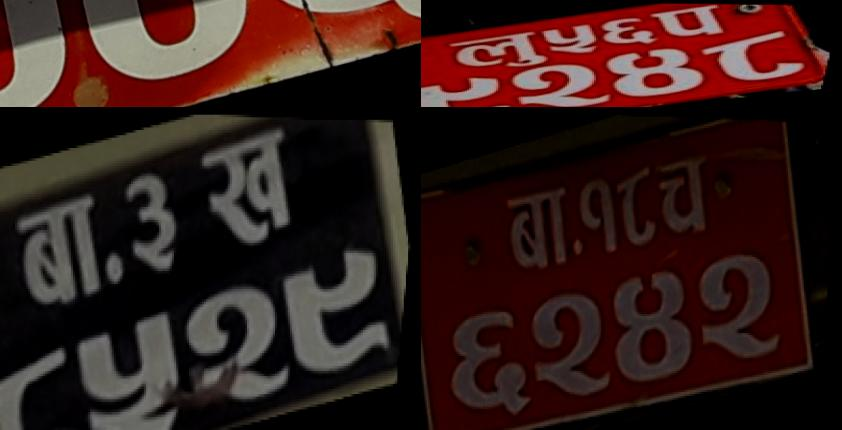0: (51, 0, 294, 104), (0, 0, 106, 107), (499, 177, 580, 282)
1: (521, 277, 627, 415), (687, 237, 793, 375)
2: (171, 258, 312, 430), (502, 57, 631, 107)
3: (106, 151, 202, 290), (571, 168, 628, 260)
4: (439, 296, 547, 430), (586, 42, 729, 104)
5: (68, 296, 207, 430), (602, 258, 707, 396), (538, 22, 612, 57)
6: (235, 0, 421, 55), (590, 13, 676, 51)
8: (0, 328, 104, 430), (692, 25, 836, 86)
9: (267, 225, 413, 396), (650, 146, 718, 241), (421, 70, 539, 107)
ba: (0, 178, 125, 327)
kha: (183, 114, 315, 268)
lu: (438, 29, 559, 74)
pa: (609, 162, 669, 253), (647, 2, 744, 43)
